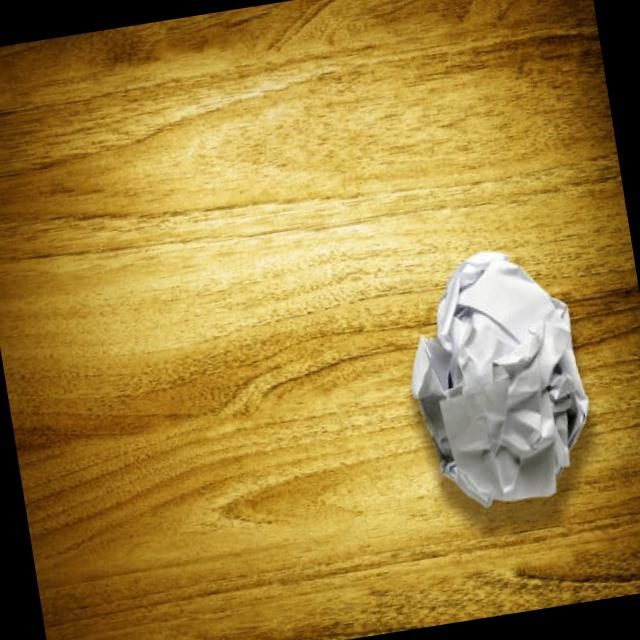electronic: (390, 236, 602, 516)
